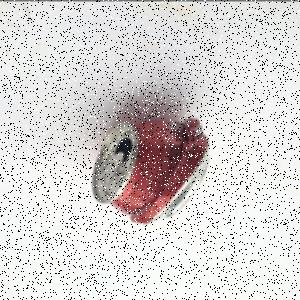Can: (91, 117, 212, 225)
